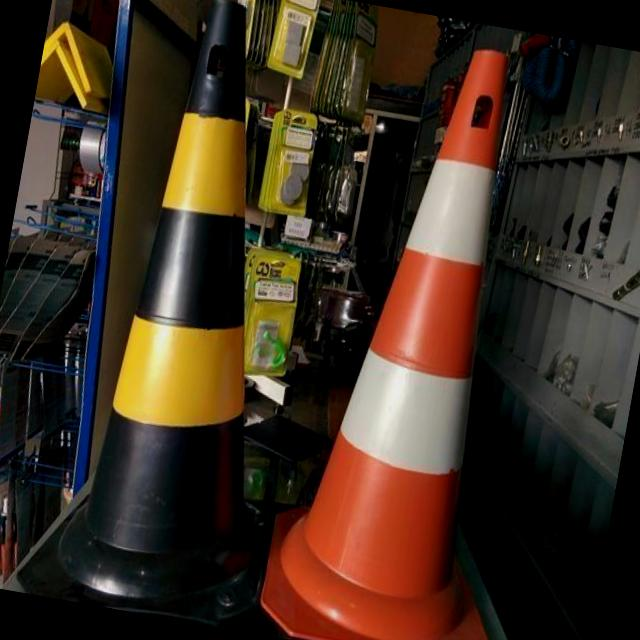cone: (50, 0, 345, 611), (271, 6, 545, 640)
